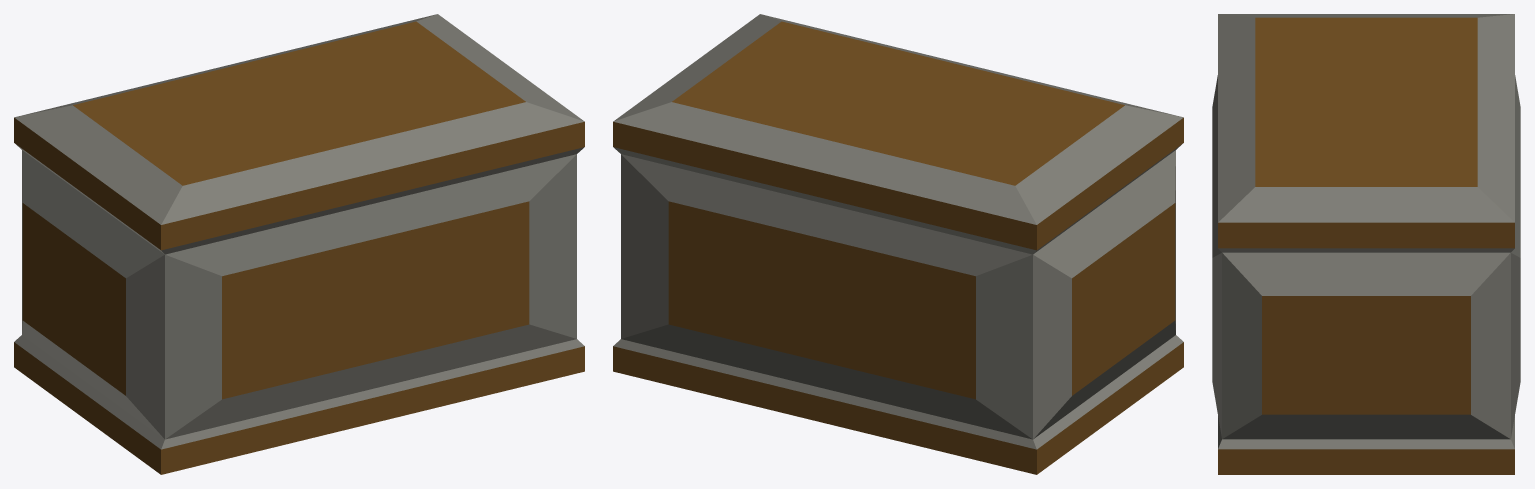
Rendered from chest.fbx.
3 views of the same model, side by side, from view 1: azimuth 30°, elevation 25°; view 2: azimuth 150°, elevation 25°; view 3: azimuth 270°, elevation 25° (orthographic).
Parts seen in each view (by area): view 1: Dwarven Chest; view 2: Dwarven Chest; view 3: Dwarven Chest.
Part boxes in pixels (x1=…): Dwarven Chest: x1=14, y1=14, x2=584, y2=474; Dwarven Chest: x1=613, y1=14, x2=1183, y2=474; Dwarven Chest: x1=1212, y1=14, x2=1520, y2=474.
Bounding box in the file's own units: 90.38 × 53.07 × 50.98.
